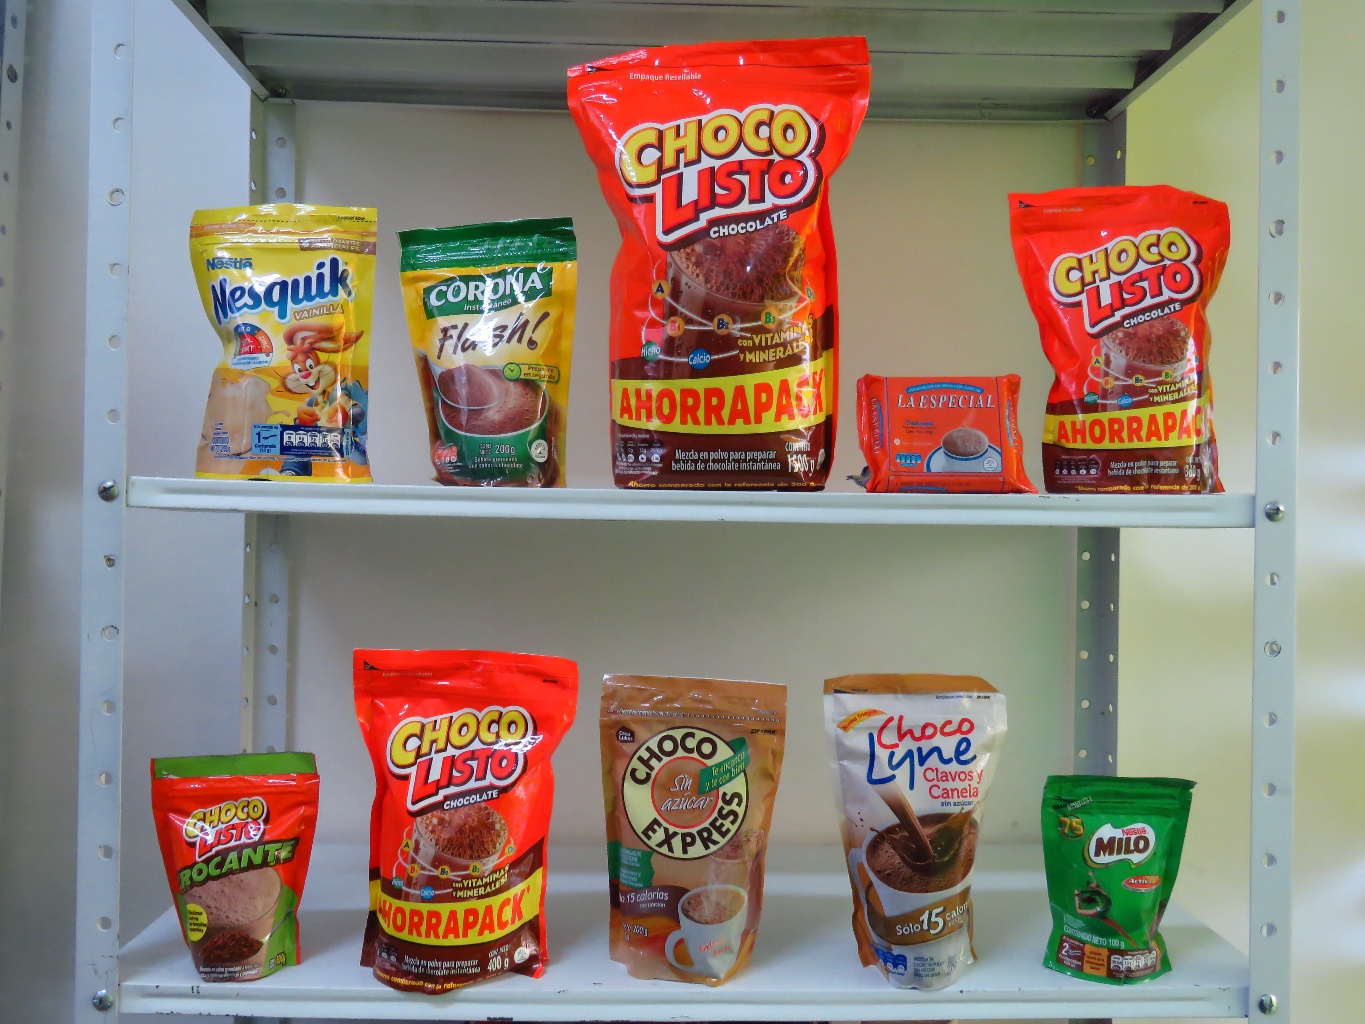COL0170102DYP10000: (151, 754, 319, 991)
COL0170103DYP1,500: (557, 40, 863, 494)
COL0170103DYP36000: (1008, 187, 1235, 493)
COL0170103DYP40000: (350, 646, 579, 995)
COL0170203DYP10000: (1043, 774, 1196, 980)
COL0170306DYP20000: (191, 205, 379, 486)
